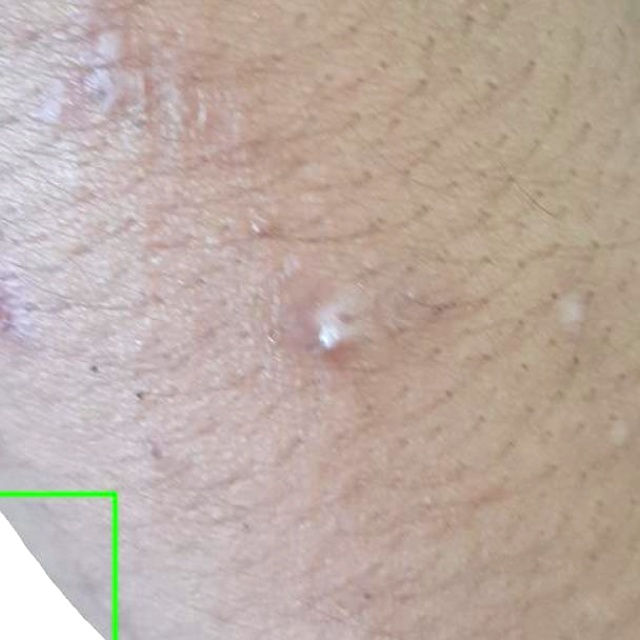Scabies: (0, 494, 116, 639)
